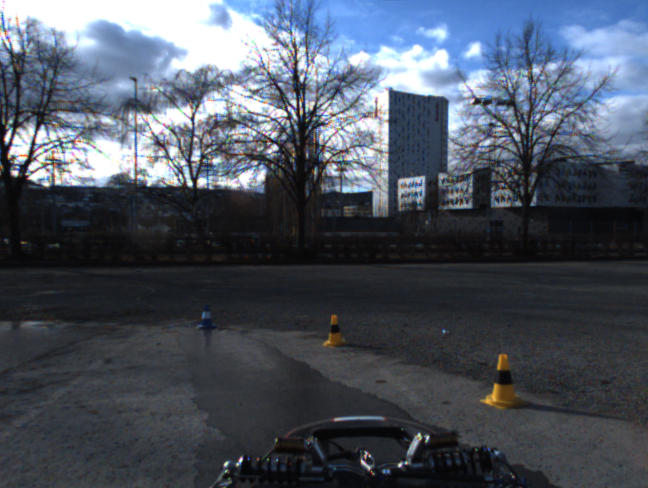cone-small-blue: (195, 305, 216, 330)
cone-small-yellow: (479, 353, 532, 410), (323, 314, 349, 349)
